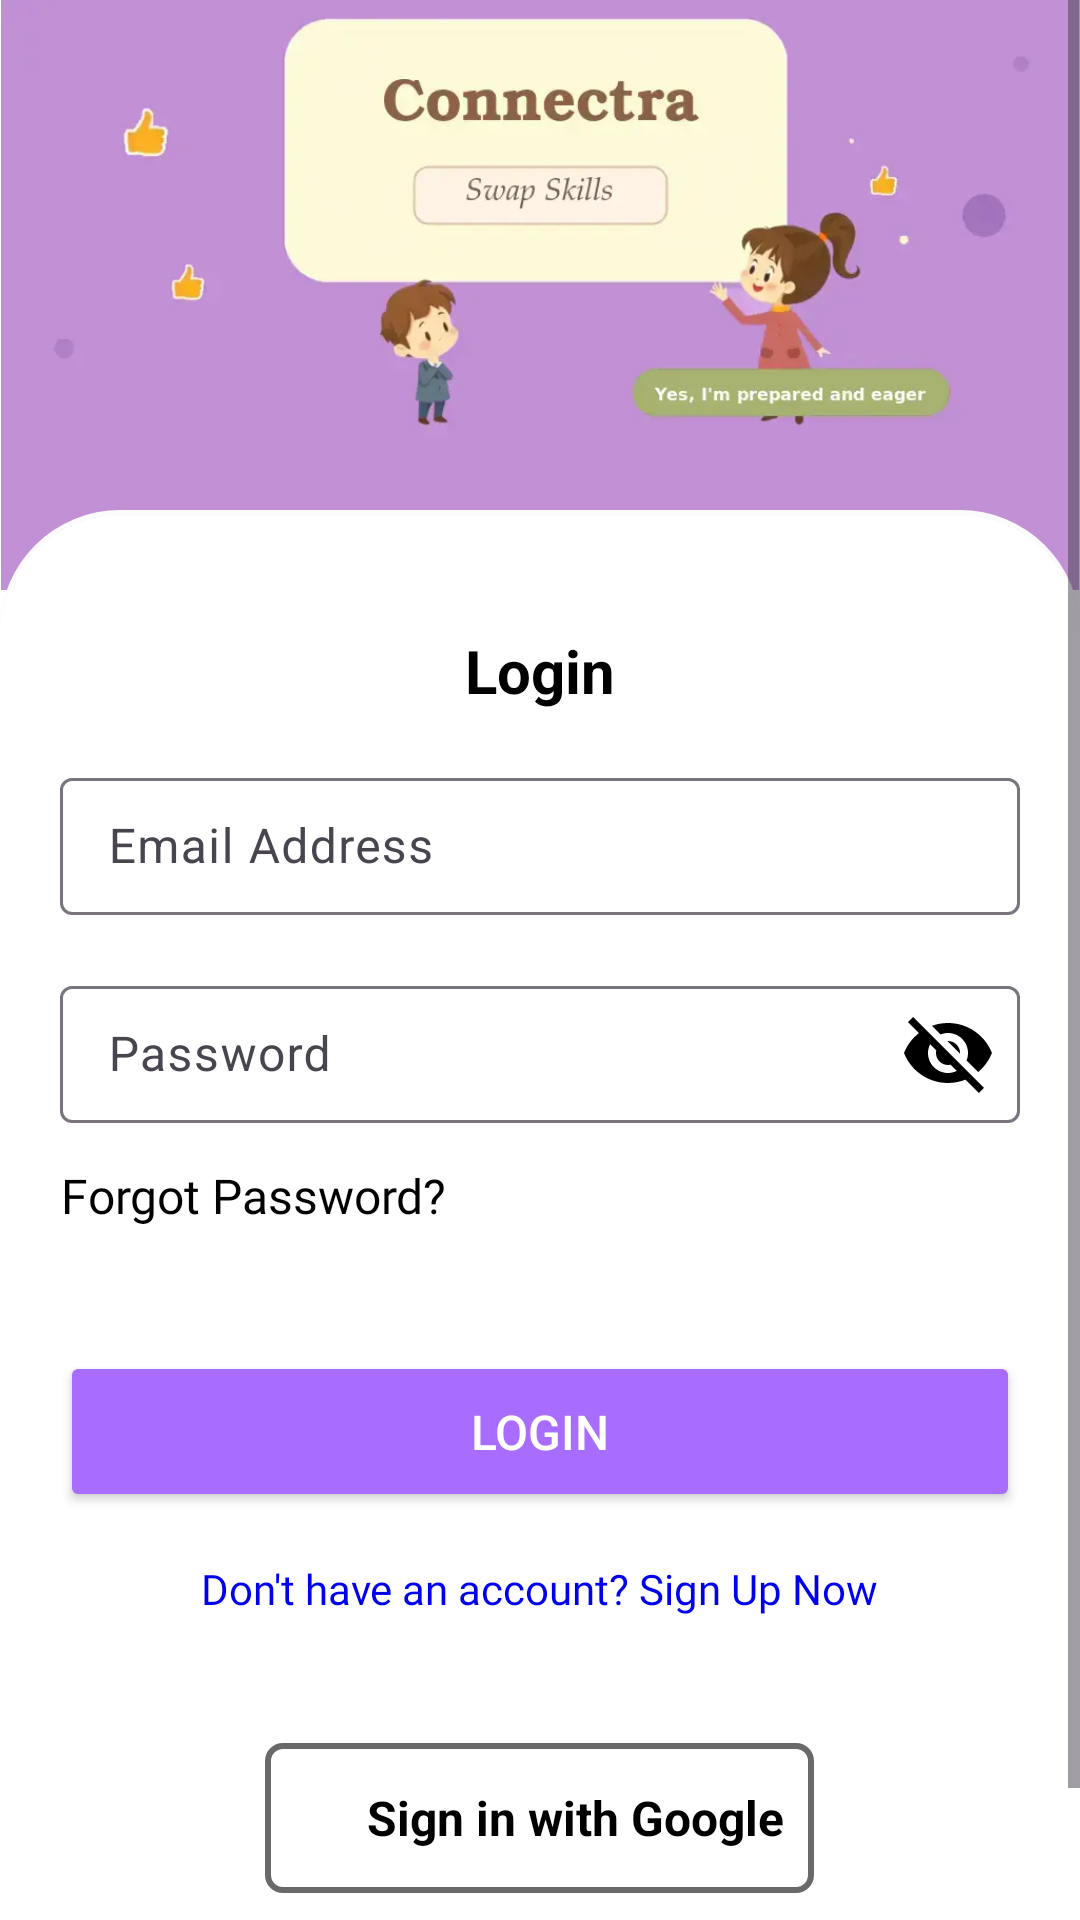

Icon click points for this 1080 x 1920 phone screenshot, format [x,y]:
design visibility off: [948,1055]
